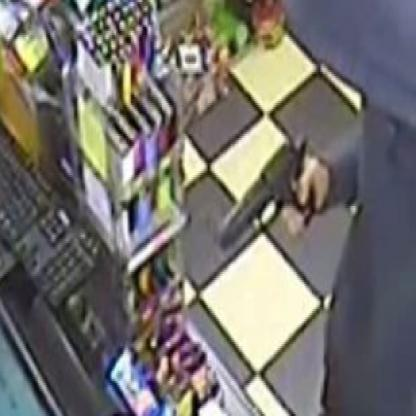gun: (210, 122, 314, 280)
